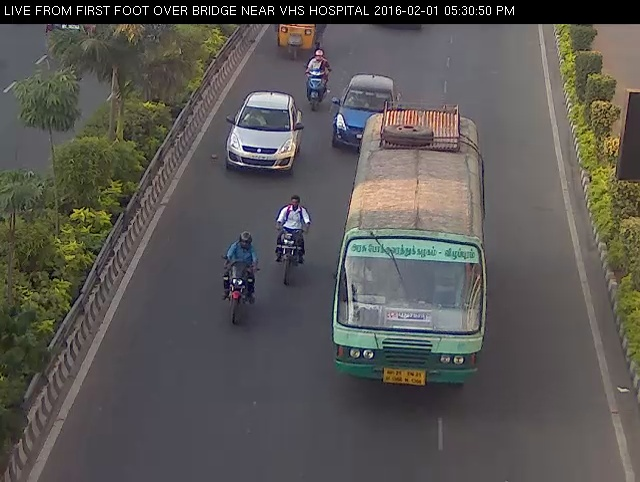Auto: (269, 15, 331, 62)
Bus: (323, 105, 506, 409)
Car: (213, 78, 309, 190), (323, 61, 415, 160)
Person: (205, 227, 264, 326), (268, 194, 315, 291), (298, 43, 337, 118)
